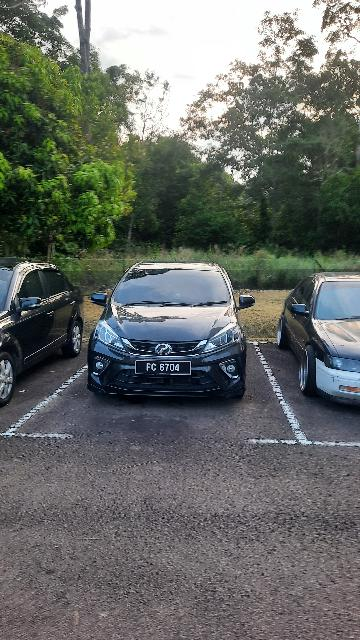License_Plate: (133, 358, 194, 378)
car: (87, 261, 257, 407)
